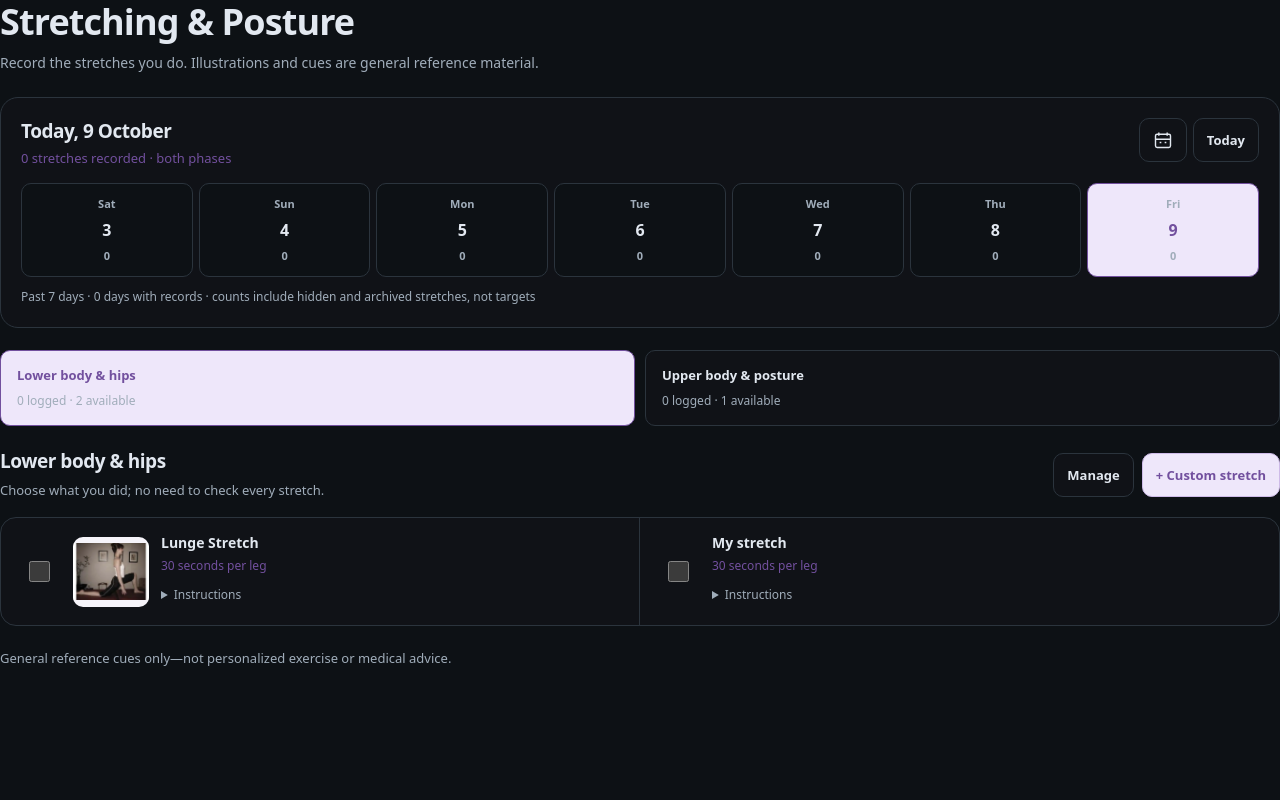
Test case: StretchingScreen › separates active custom stretches from archives and preserves restore and edit
Expected: the checkbox labelled "Lunge Stretch" is shown, [28,561,50,582]
Click the button with aria-label "Manage stretches" at [1094, 475], box [1053,453,1134,497]
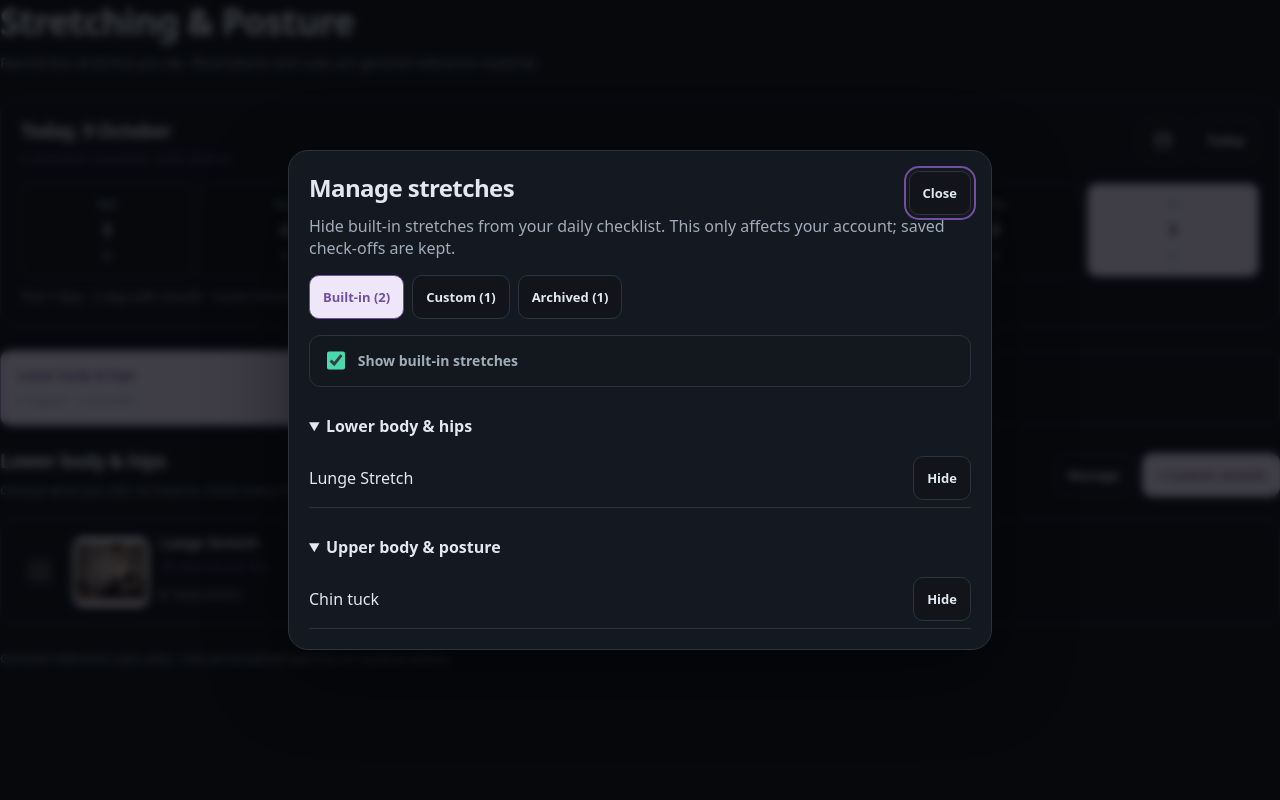
Expected: the text "Old stretch" is not shown
Click the tab "Custom (1)" at [461, 297], box [412,275,510,319]
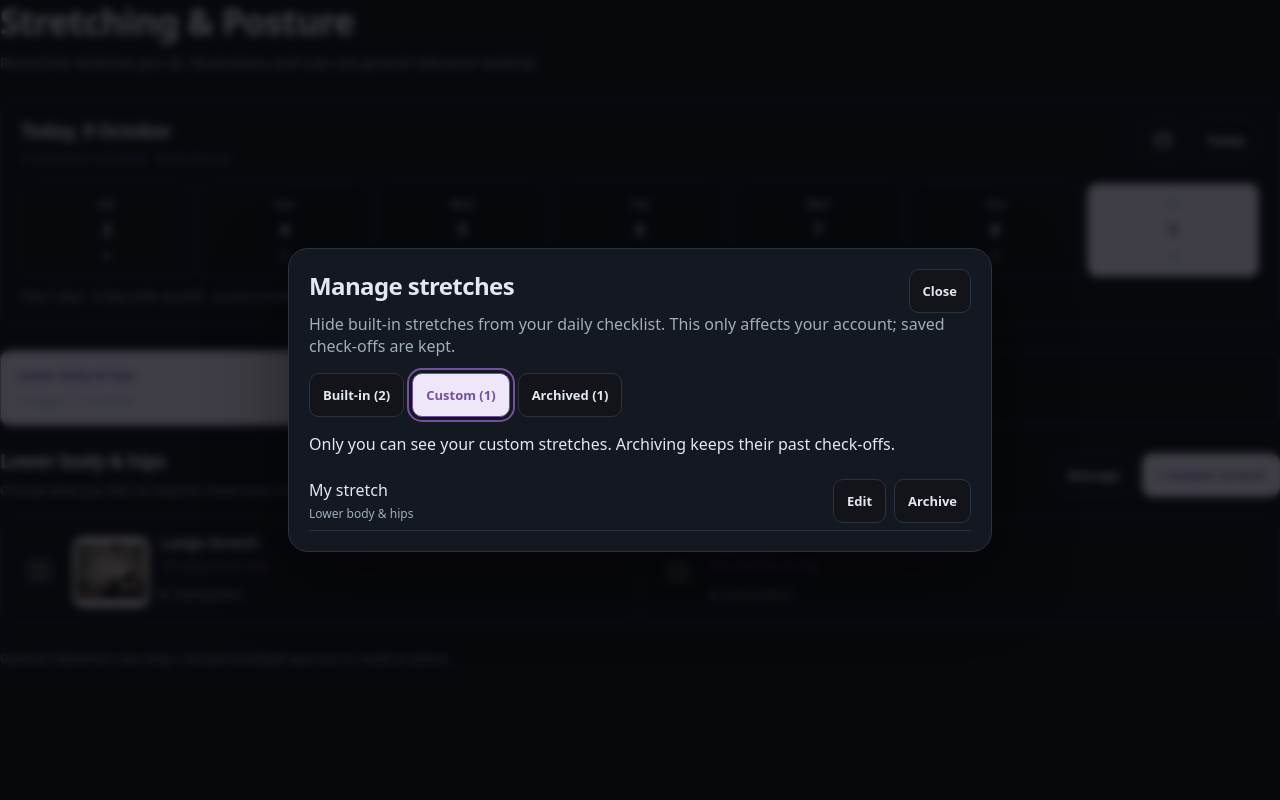
Now the text "My stretch" is shown, box [309,479,388,501]
Click the button with aria-label "Archive My stretch" at [933, 500], box [894,478,971,522]
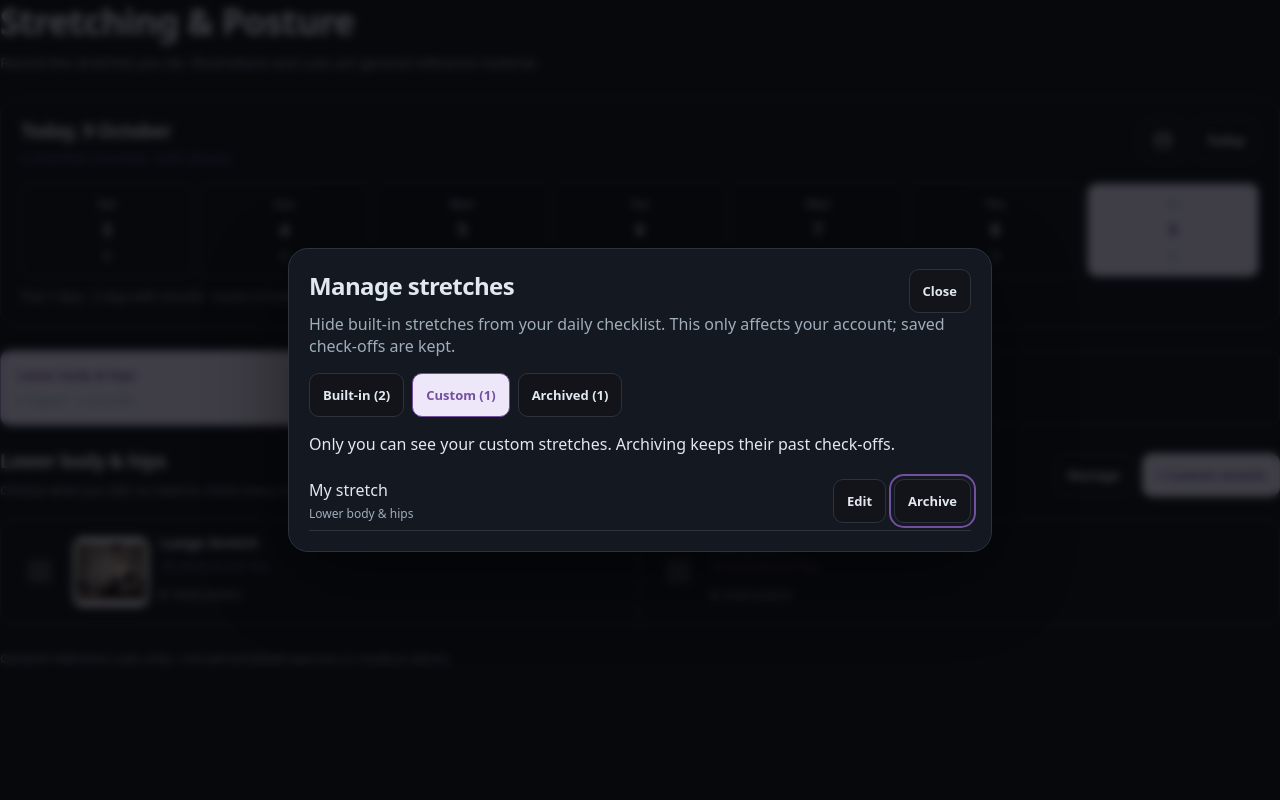
Click the tab "Archived (1)" at [570, 395], box [518,373,622,417]
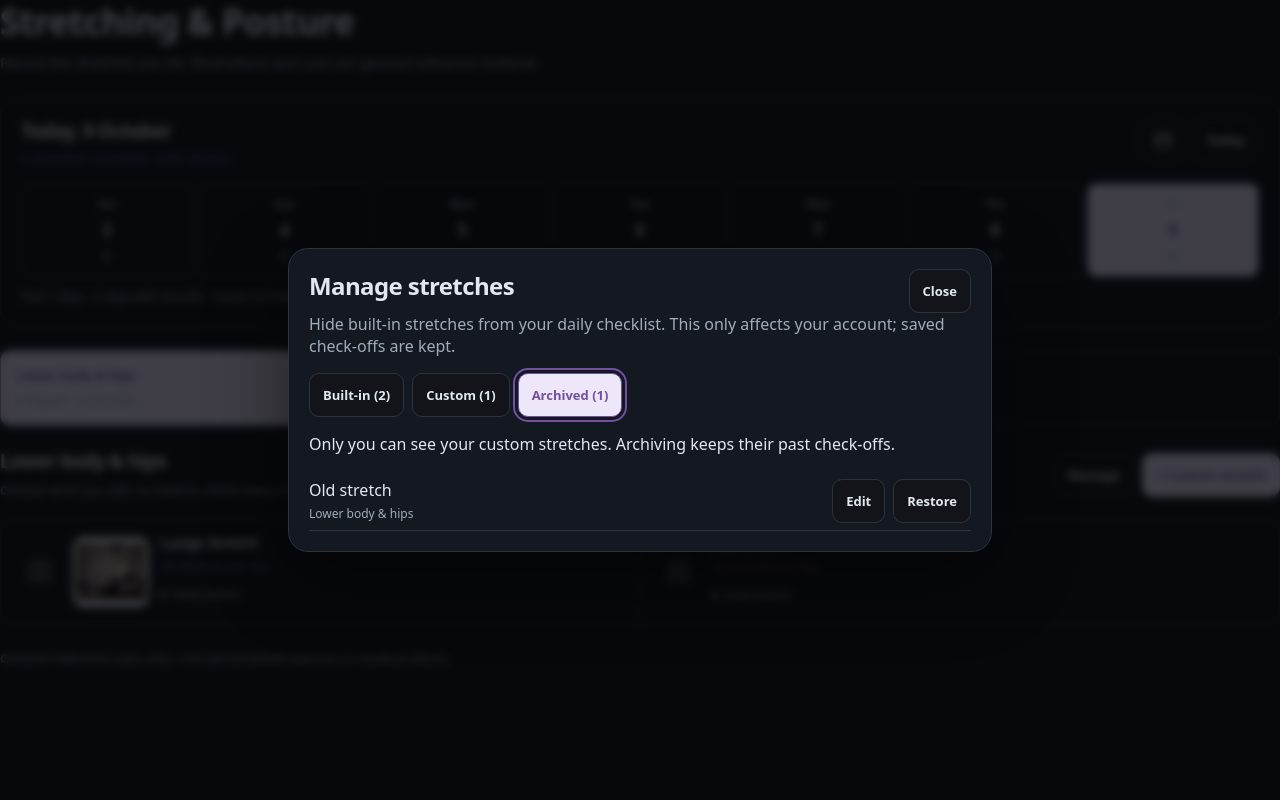
Click the button with aria-label "Restore Old stretch" at [932, 500], box [893,478,971,522]
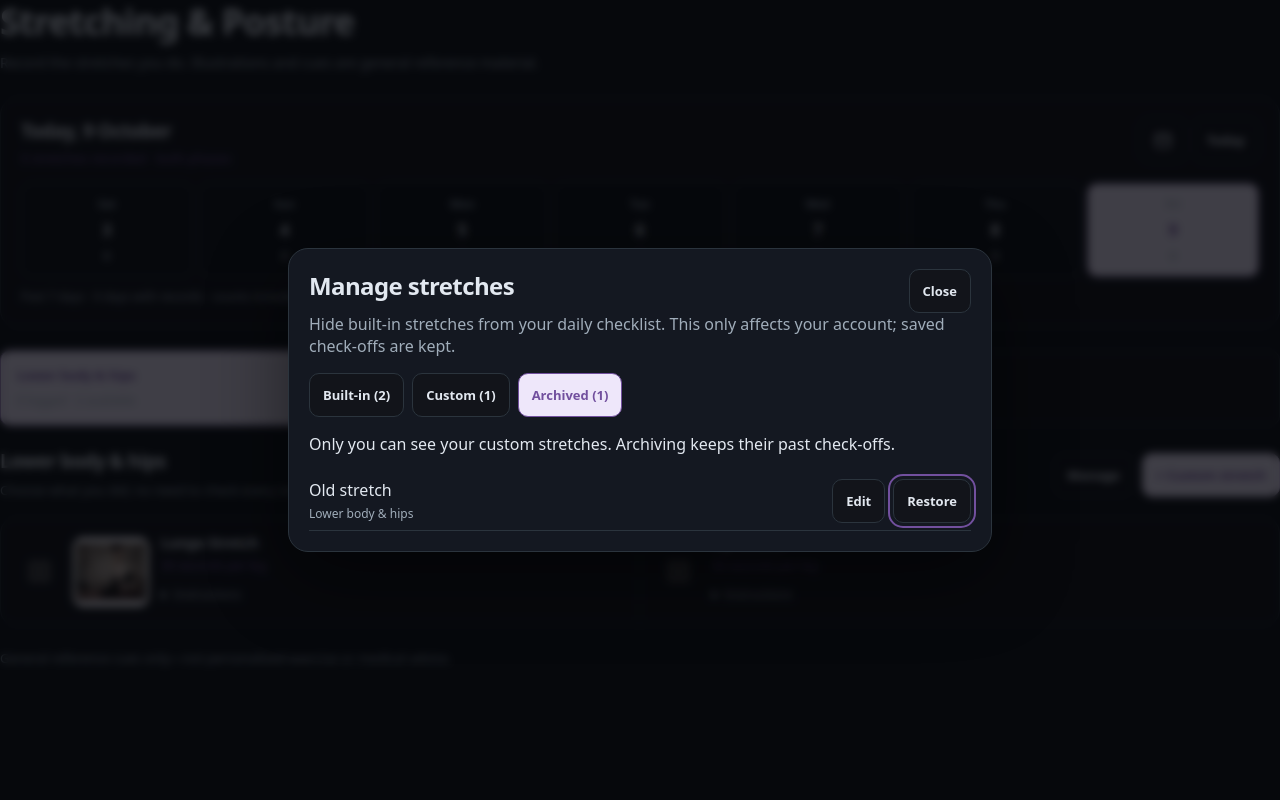
Click the button with aria-label "Edit Old stretch" at [859, 500], box [832,478,885,522]
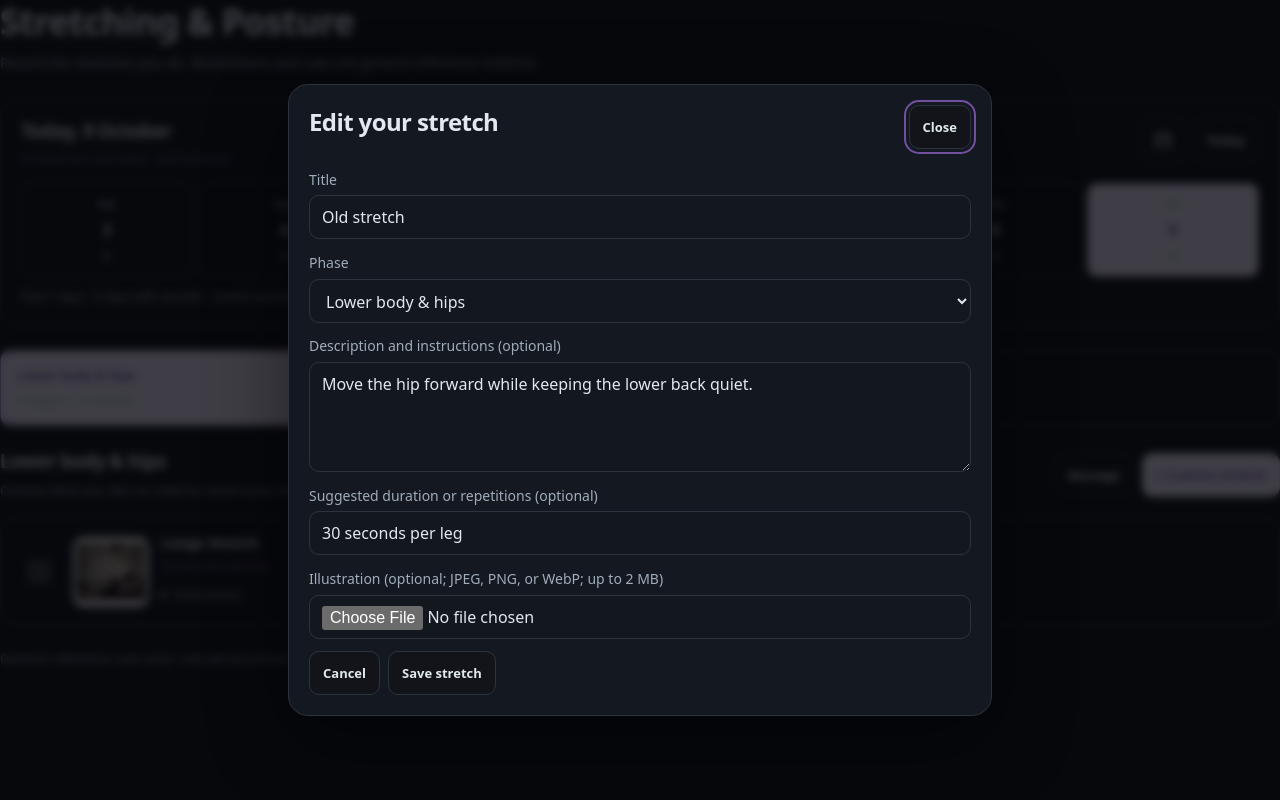
Now the dialog "Edit your stretch" is shown, box [288,84,992,716]
